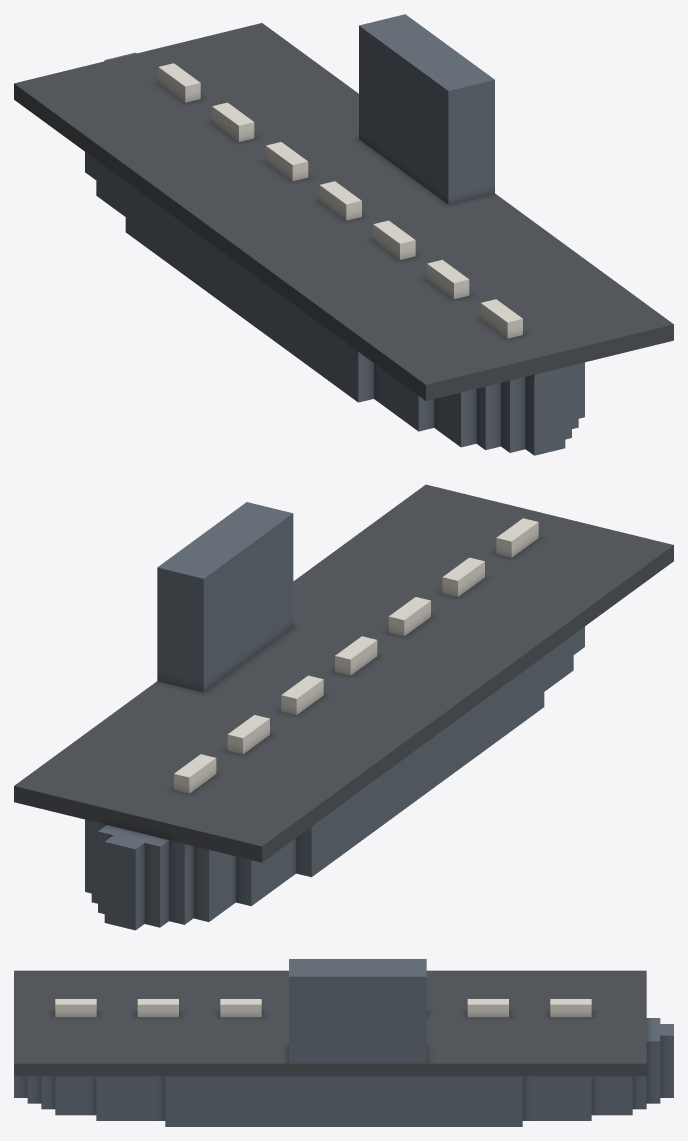
The model's file is u_carrier.glb.
3 views of the same model, one above another, from view 1: azimuth 30°, elevation 25°; view 2: azimuth 150°, elevation 25°; view 3: azimuth 270°, elevation 25° (orthographic). The views are drawn at different scales.
Visible parts, largest first — view 1: u_carrier_body; view 2: u_carrier_body; view 3: u_carrier_body.
Part boxes in pixels (box(x1,y1,x2,y2)): u_carrier_body: box(14, 14, 673, 455); u_carrier_body: box(14, 484, 673, 930); u_carrier_body: box(14, 959, 673, 1126).
Bounding box in the file's own units: 1 × 0.8125 × 3.
1 material, 1 textured.
